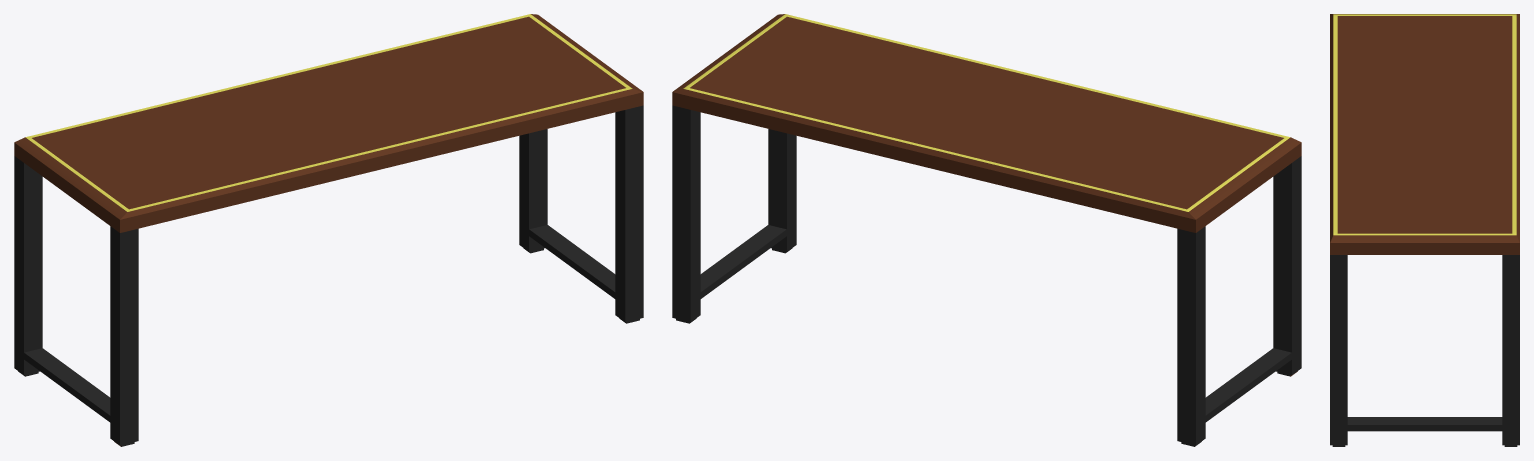
The model's file is newOfficeDesk2.fbx.
3 views of the same model, side by side, from view 1: azimuth 30°, elevation 25°; view 2: azimuth 150°, elevation 25°; view 3: azimuth 270°, elevation 25° (orthographic). The views are drawn at different scales.
Parts seen in each view (by area): view 1: Cube.001; view 2: Cube.001; view 3: Cube.001.
Part boxes in pixels (<box>): Cube.001: <box>14,14,643,446</box>; Cube.001: <box>672,14,1301,446</box>; Cube.001: <box>1330,14,1519,446</box>.
Size of the model in its own units: 200 by 85 by 70.
